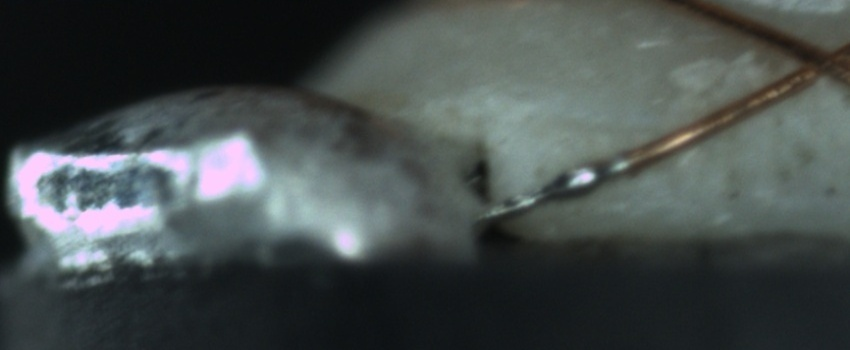CL: (773, 26, 850, 94)
DL: (536, 96, 672, 161)
TB: (549, 157, 609, 199)
TS: (477, 157, 627, 222)
TTCW: (475, 129, 677, 220)
